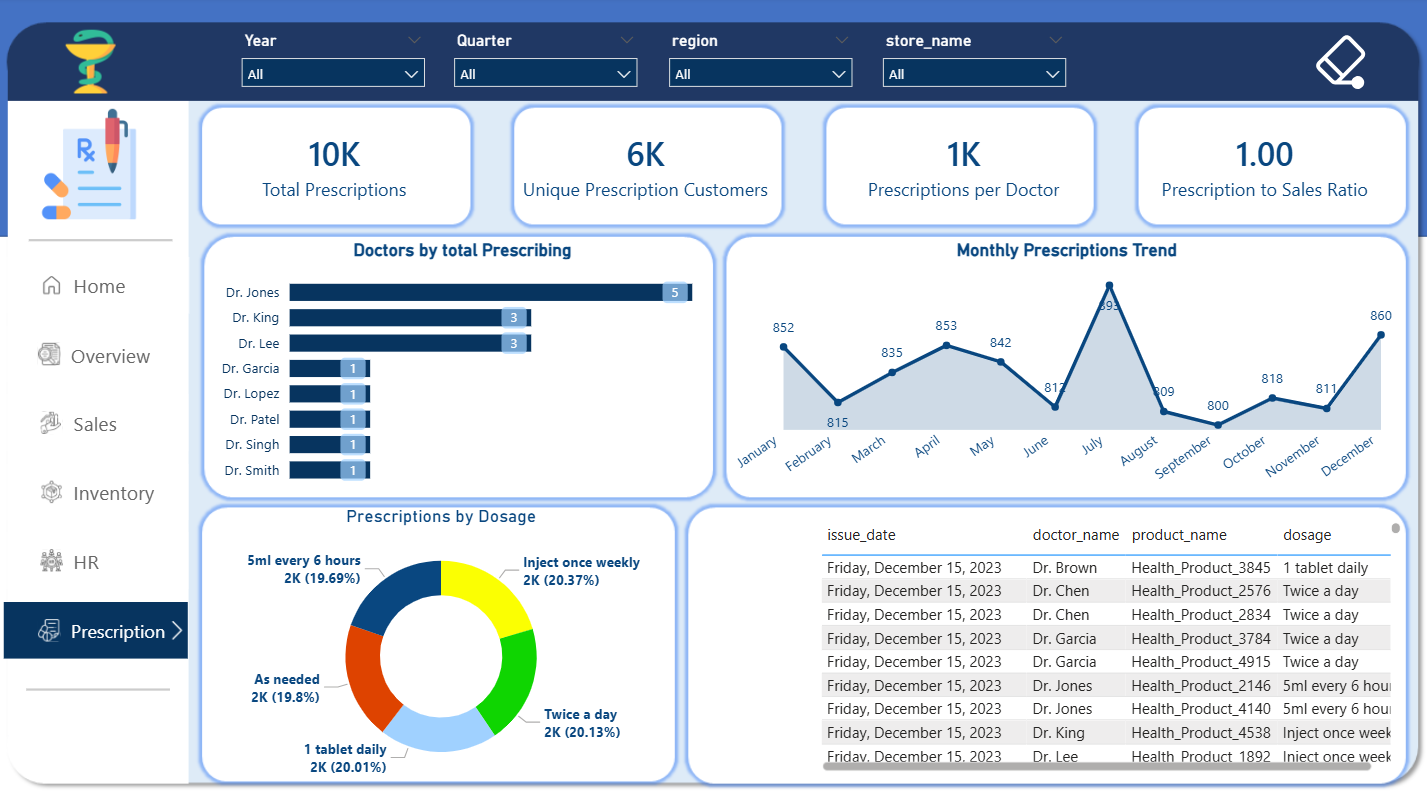

Layout of this report page (visuals, bound fields, positions):
{"tool":"powerbi","page":{"name":"Prescription Analytics","canvas":[1280,720],"ordinal":5},"visuals":[{"type":"cardVisual","fields":{"Data":["PRESCRIPTION KPIs.Total Prescriptions"]},"box":[178.2,97.6,248.5,104.1],"z":0},{"type":"actionButton","title":"Button pre acttive","box":[7.8,538.5,163.9,50.7],"z":0,"group":"g1"},{"type":"cardVisual","fields":{"Data":["PRESCRIPTION KPIs.Unique Prescription Customers"]},"box":[439.7,97.6,279.7,104.1],"z":1000},{"type":"actionButton","box":[144.4,538.5,27.3,50.7],"z":1000,"group":"g1"},{"type":"cardVisual","fields":{"Data":["PRESCRIPTION KPIs.Prescription to Sales Ratio"]},"box":[1005.5,97.6,251.1,104.1],"z":2000},{"type":"barChart","title":"Doctors by total Prescribing","fields":{"Category":["Prescriptions.doctor_name"],"Y":["PRESCRIPTION KPIs.Total Prescriptions"]},"box":[192.5,215.9,447.5,227.6],"z":3000},{"type":"cardVisual","fields":{"Data":["PRESCRIPTION KPIs.Prescriptions per Doctor"]},"box":[738.9,97.6,247.2,104.1],"z":4000},{"type":"lineChart","title":"Monthly Prescriptions Trend","fields":{"Category":["Date_Dim.Date.Variation.Date Hierarchy.Month"],"Y":["PRESCRIPTION KPIs.Total Prescriptions"]},"box":[650.4,215.9,608.8,236.7],"z":5000},{"type":"donutChart","title":"Prescriptions by Dosage","fields":{"Category":["Prescriptions.dosage"],"Y":["PRESCRIPTION KPIs.Total Prescriptions"]},"box":[192.5,452.7,409.8,251.1],"z":6000},{"type":"tableEx","fields":{"Values":["Prescriptions.issue_date.Variation.Date Hierarchy.Year","Prescriptions.doctor_name","Products.product_name","Prescriptions.dosage"]},"box":[729.8,463.1,526.8,231.5],"z":7000},{"type":"slicer","fields":{"Values":["Date_Dim.Year"]},"box":[209.1,25.6,183.5,63.2],"z":8000},{"type":"slicer","fields":{"Values":["Date_Dim.Quarter"]},"box":[398.7,25.6,183.5,63.2],"z":9000},{"type":"slicer","fields":{"Values":["Stores.region"]},"box":[589.8,25.6,183.5,63.2],"z":10000},{"type":"slicer","fields":{"Values":["Stores.store_name"]},"box":[780.8,25.6,183.5,63.2],"z":11000},{"type":"actionButton","box":[9.5,231.2,163.3,50.3],"z":12000},{"type":"actionButton","box":[7.8,292.5,163.9,50.7],"z":14000},{"type":"actionButton","box":[10.4,354.4,162.6,50.7],"z":15000},{"type":"actionButton","box":[10.4,476.7,162.6,50.7],"z":16000},{"type":"actionButton","box":[10.4,416.2,162.6,49.4],"z":17000},{"type":"shape","box":[30.2,201,128.2,30.2],"z":18000},{"type":"image","box":[56.5,26.4,56.5,61.6],"z":19000},{"type":"group","id":"g1","title":"Group 5","box":[7.8,538.5,163.9,50.7],"z":24000},{"type":"shape","box":[27.5,601.8,128.3,29],"z":25000},{"type":"image","box":[1171.5,25.3,55.5,62.7],"z":26000},{"type":"image","box":[35,97.5,98.8,101.2],"z":27000}]}

Visuals, with their boxes on the page's 1280x720 design canvas (x1, y1, x2, y2). These are canvas units, not pixel positions in the 1427x792 screenshot, which may show the page scaled, cropped or inside an application window:
cardVisual - PRESCRIPTION KPIs.Total Prescriptions: [178, 98, 427, 202]
"Button pre acttive" actionButton: [8, 538, 172, 589]
cardVisual - PRESCRIPTION KPIs.Unique Prescription Customers: [440, 98, 719, 202]
actionButton: [144, 538, 172, 589]
cardVisual - PRESCRIPTION KPIs.Prescription to Sales Ratio: [1006, 98, 1257, 202]
"Doctors by total Prescribing" barChart: [192, 216, 640, 444]
cardVisual - PRESCRIPTION KPIs.Prescriptions per Doctor: [739, 98, 986, 202]
"Monthly Prescriptions Trend" lineChart: [650, 216, 1259, 453]
"Prescriptions by Dosage" donutChart: [192, 453, 602, 704]
tableEx - Prescriptions.issue_date.Variation.Date Hierarchy.Year x Prescriptions.doctor_name: [730, 463, 1257, 695]
slicer - Date_Dim.Year: [209, 26, 393, 89]
slicer - Date_Dim.Quarter: [399, 26, 582, 89]
slicer - Stores.region: [590, 26, 773, 89]
slicer - Stores.store_name: [781, 26, 964, 89]
actionButton: [10, 231, 173, 282]
actionButton: [8, 292, 172, 343]
actionButton: [10, 354, 173, 405]
actionButton: [10, 477, 173, 527]
actionButton: [10, 416, 173, 466]
shape: [30, 201, 158, 231]
image: [56, 26, 113, 88]
"Group 5" group: [8, 538, 172, 589]
shape: [28, 602, 156, 631]
image: [1172, 25, 1227, 88]
image: [35, 98, 134, 199]
